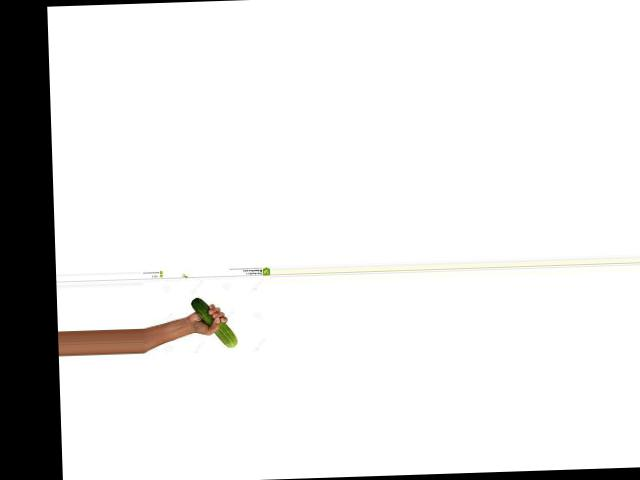cucumber: (189, 296, 236, 348)
